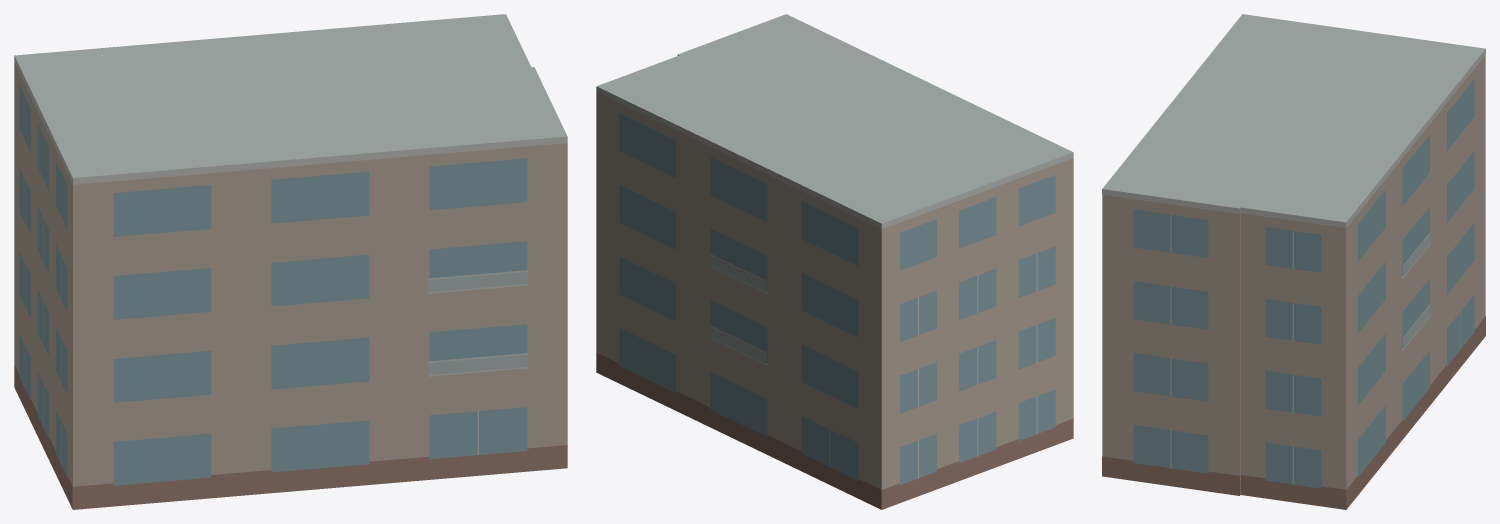
Rendered from survey-upis-32808001.glb.
3 views of the same model, side by side, from view 1: azimuth 30°, elevation 25°; view 2: azimuth 150°, elevation 25°; view 3: azimuth 270°, elevation 25° (orthographic). The views are drawn at different scales.
Visible parts, largest first — view 1: survey-upis-32808001.tmp; view 2: survey-upis-32808001.tmp; view 3: survey-upis-32808001.tmp.
Part boxes in pixels (left/top/right/bottom): survey-upis-32808001.tmp: left=14, top=14, right=567, bottom=509; survey-upis-32808001.tmp: left=596, top=14, right=1073, bottom=509; survey-upis-32808001.tmp: left=1102, top=14, right=1485, bottom=509.
Size of the model in its own units: 18.99 by 12.2 by 14.77.
